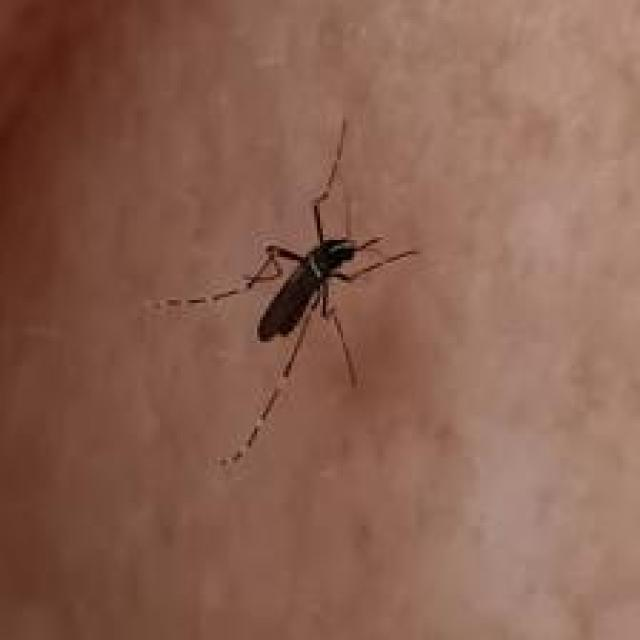Aedes albopictus: (144, 116, 419, 470)
